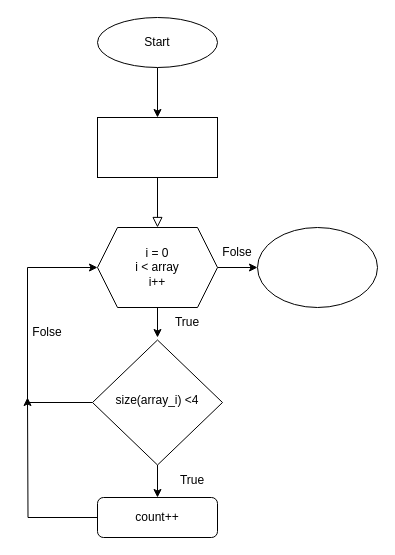
Image size: 395x555. Some labels were removed from this diagram. The shapes that lost their labels are listed below. From the top down, each one's box as (x1, y1, x2, y2) in pixels, then its label:
(96, 116, 218, 178): array count = 0
(256, 226, 378, 308): Ent
